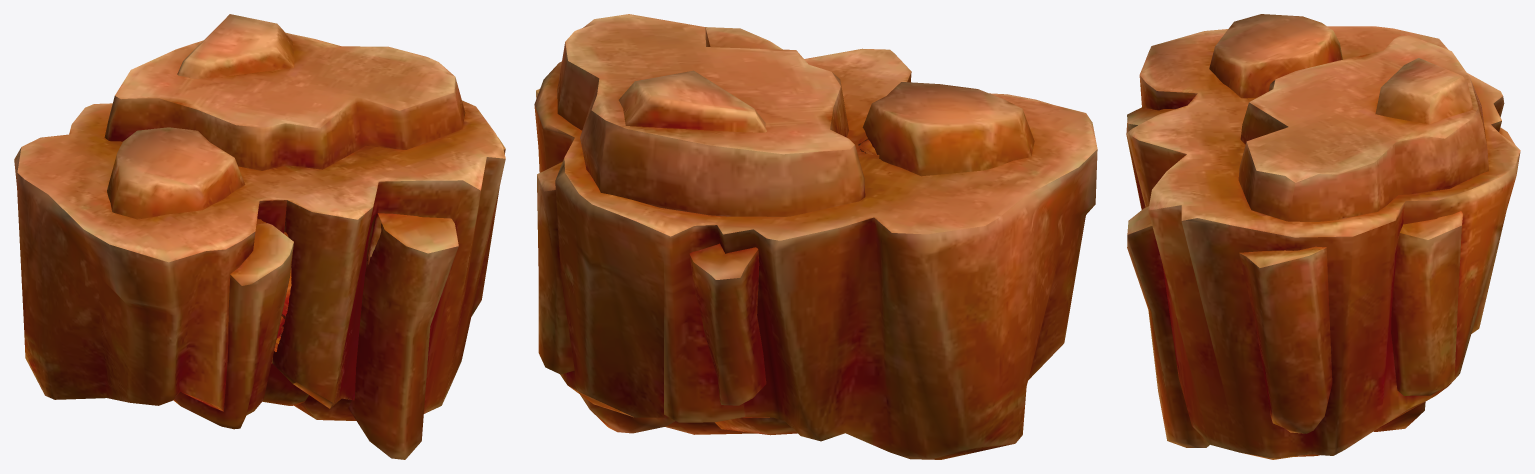
The picture shows the model from 3 angles, left to right: view 1: azimuth 30°, elevation 25°; view 2: azimuth 150°, elevation 25°; view 3: azimuth 270°, elevation 25°; orthographic projection. The views are drawn at different scales.
Visible parts, largest first — view 1: SM_Copper_Ore_Large_01_LOD0; view 2: SM_Copper_Ore_Large_01_LOD0; view 3: SM_Copper_Ore_Large_01_LOD0.
Part boxes in pixels (x1,y1,x2,y2): SM_Copper_Ore_Large_01_LOD0: [14, 14, 505, 459]; SM_Copper_Ore_Large_01_LOD0: [534, 14, 1097, 459]; SM_Copper_Ore_Large_01_LOD0: [1126, 14, 1520, 459].
Bounding box in the file's own units: 0.5422 × 0.4178 × 0.426.
Materials: 1 (1 with a texture image).
